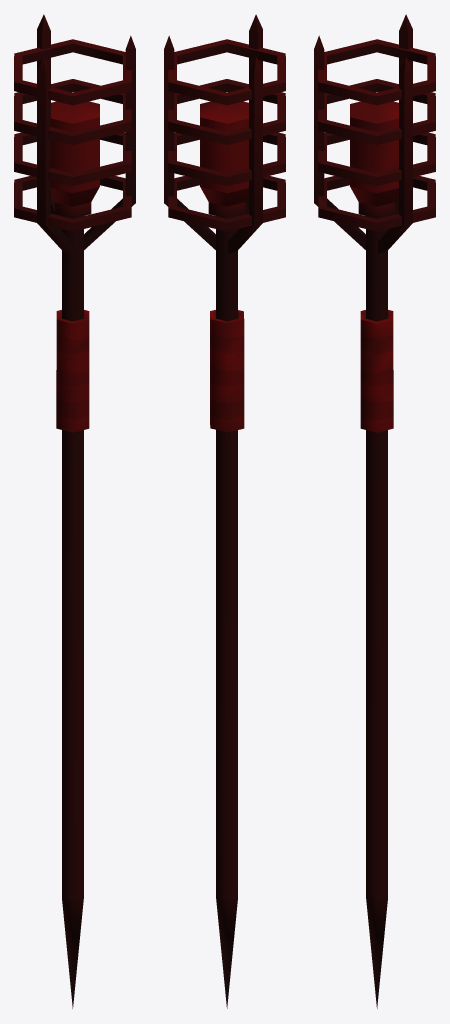
Rendered from StandingMetalTorch.glb.
The picture shows the model from 3 angles, left to right: view 1: azimuth 90°, elevation 25°; view 2: azimuth 150°, elevation 25°; view 3: azimuth 270°, elevation 25°; orthographic projection.
Visible parts, largest first — view 1: StandingMetalTorch; view 2: StandingMetalTorch; view 3: StandingMetalTorch.
Part boxes in pixels (box(x1,y1,x2,y2)): StandingMetalTorch: box(14, 14, 135, 1008); StandingMetalTorch: box(164, 14, 285, 1008); StandingMetalTorch: box(314, 14, 435, 1008).
Size of the model in its own units: 1.56 by 12.37 by 1.4.
